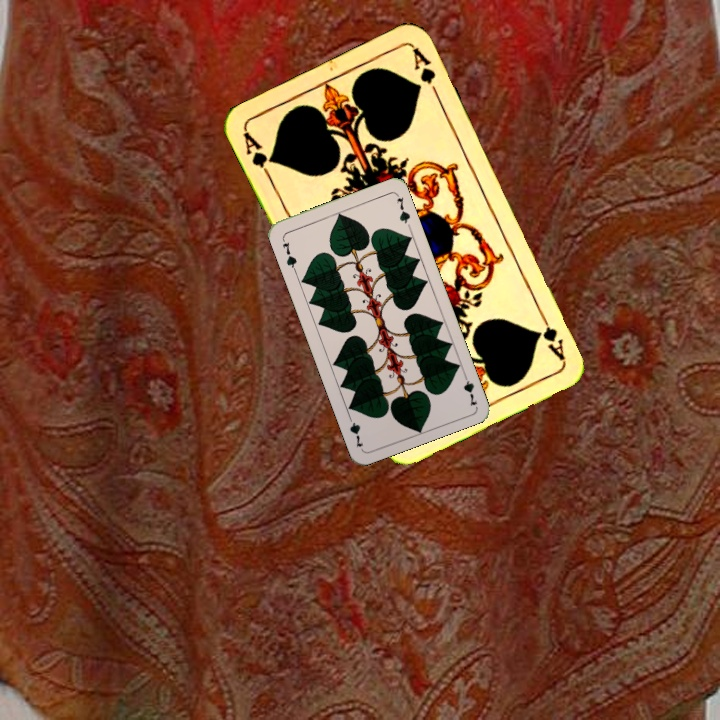G7: (459, 368, 480, 409), (278, 234, 299, 273)
GA: (239, 128, 277, 183), (535, 307, 568, 363)
